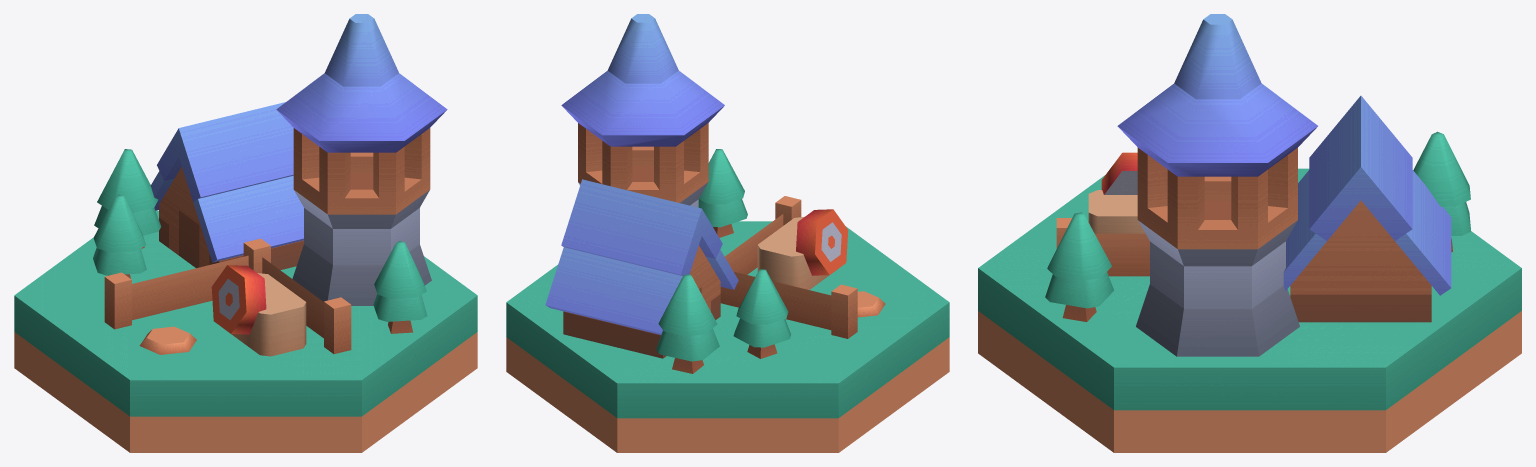
File: hexagon-kit--building-archery.glb
3 views of the same model, side by side, from view 1: azimuth 30°, elevation 25°; view 2: azimuth 150°, elevation 25°; view 3: azimuth 270°, elevation 25° (orthographic). The views are drawn at different scales.
Visible parts, largest first — view 1: building-archery; view 2: building-archery; view 3: building-archery.
Boxes of the visible parts, x1,y1,x2,y2 form: building-archery: [14, 14, 477, 452]; building-archery: [506, 14, 949, 452]; building-archery: [978, 14, 1521, 452].
Size of the model in its own units: 1 by 0.92 by 1.15.
Materials: 1 (1 with a texture image).
